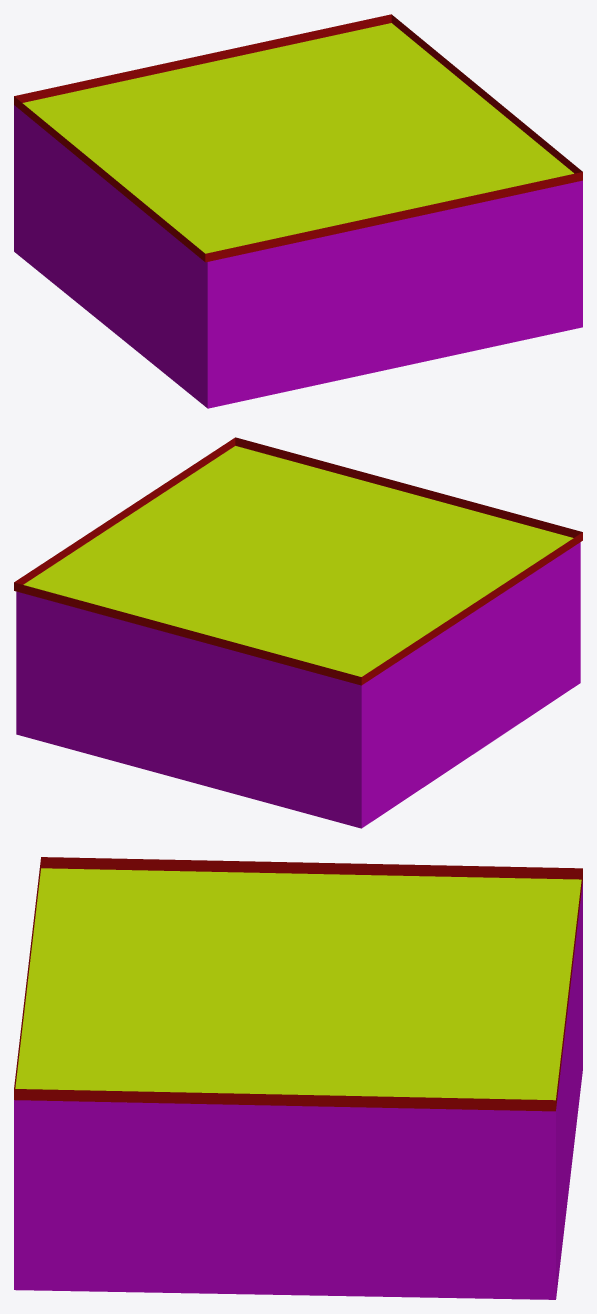
The picture shows the model from 3 angles, top to bottom: view 1: azimuth 30°, elevation 25°; view 2: azimuth 150°, elevation 25°; view 3: azimuth 270°, elevation 25°; orthographic projection. The views are drawn at different scales.
Parts seen in each view (by area): view 1: sc_62; view 2: sc_62; view 3: sc_62.
Part boxes in pixels (box(x1,y1,x2,y2)): sc_62: box(14, 14, 582, 408); sc_62: box(14, 437, 582, 828); sc_62: box(14, 857, 582, 1299).
Size of the model in its own units: 16.24 by 6.27 by 16.06.
